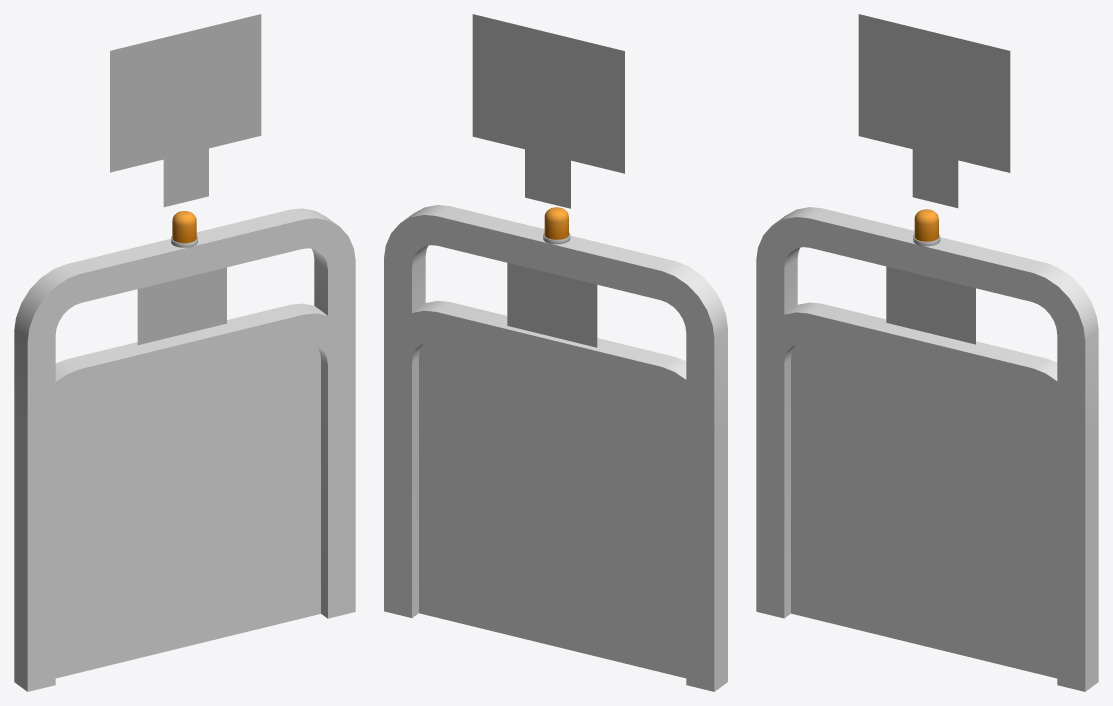
File: baby_boss_leylek_kapisi_2.fbx
3 renders of one model, left to right at view 1: azimuth 30°, elevation 25°; view 2: azimuth 150°, elevation 25°; view 3: azimuth 330°, elevation 25°, orthographic.
Parts seen in each view (by area): view 1: baby_boss_leylek_kapi+2_efek, baby_boss_leylek_kapi+2, baby_boss_leylek_kapi+2_icon, baby_boss_leylek_kapi+2_siren; view 2: baby_boss_leylek_kapi+2_efek, baby_boss_leylek_kapi+2, baby_boss_leylek_kapi+2_icon, baby_boss_leylek_kapi+2_siren; view 3: baby_boss_leylek_kapi+2_efek, baby_boss_leylek_kapi+2, baby_boss_leylek_kapi+2_icon, baby_boss_leylek_kapi+2_siren.
Part boxes in pixels (x1,y1,x2,y2): baby_boss_leylek_kapi+2_efek: (55,343,320,678); baby_boss_leylek_kapi+2: (14,208,355,691); baby_boss_leylek_kapi+2_icon: (110,14,261,344); baby_boss_leylek_kapi+2_siren: (171,211,197,247); baby_boss_leylek_kapi+2_efek: (419,341,686,678); baby_boss_leylek_kapi+2: (384,205,727,691); baby_boss_leylek_kapi+2_icon: (472,14,624,347); baby_boss_leylek_kapi+2_siren: (543,207,570,244); baby_boss_leylek_kapi+2_efek: (791,342,1057,678); baby_boss_leylek_kapi+2: (756,207,1098,691); baby_boss_leylek_kapi+2_icon: (858,14,1010,344); baby_boss_leylek_kapi+2_siren: (913,209,940,246).
Size of the model in its own units: 2.41 by 4.29 by 0.1748.
